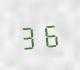six: (40, 20, 60, 48)
three: (19, 21, 39, 50)
